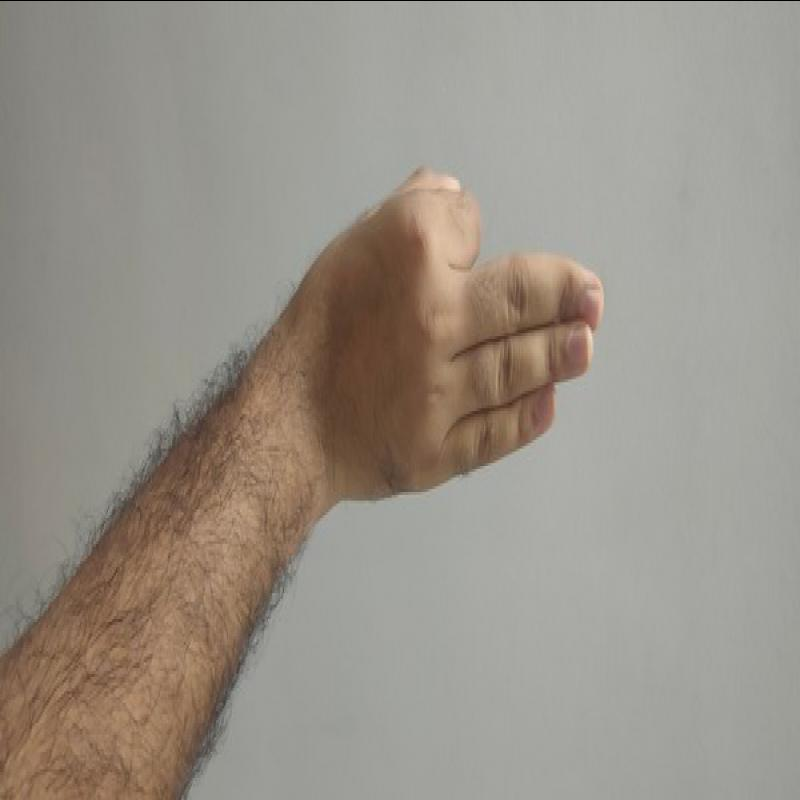Mudraakhyam: (316, 148, 636, 528)
